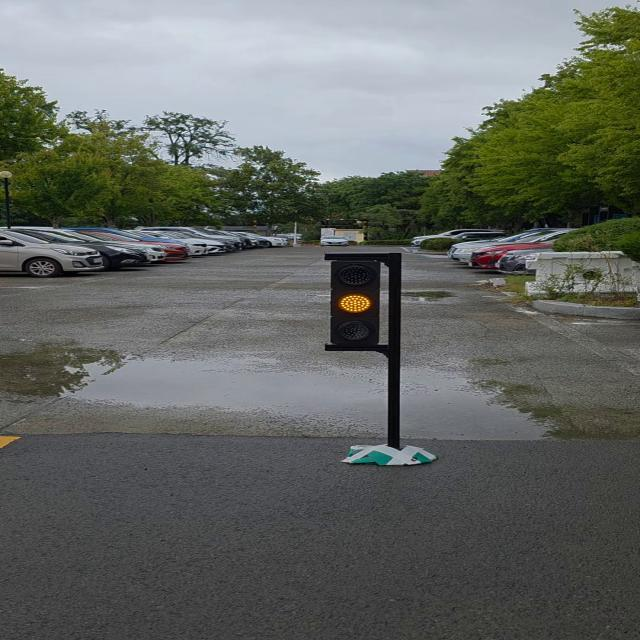yellow: (330, 254, 386, 354)
